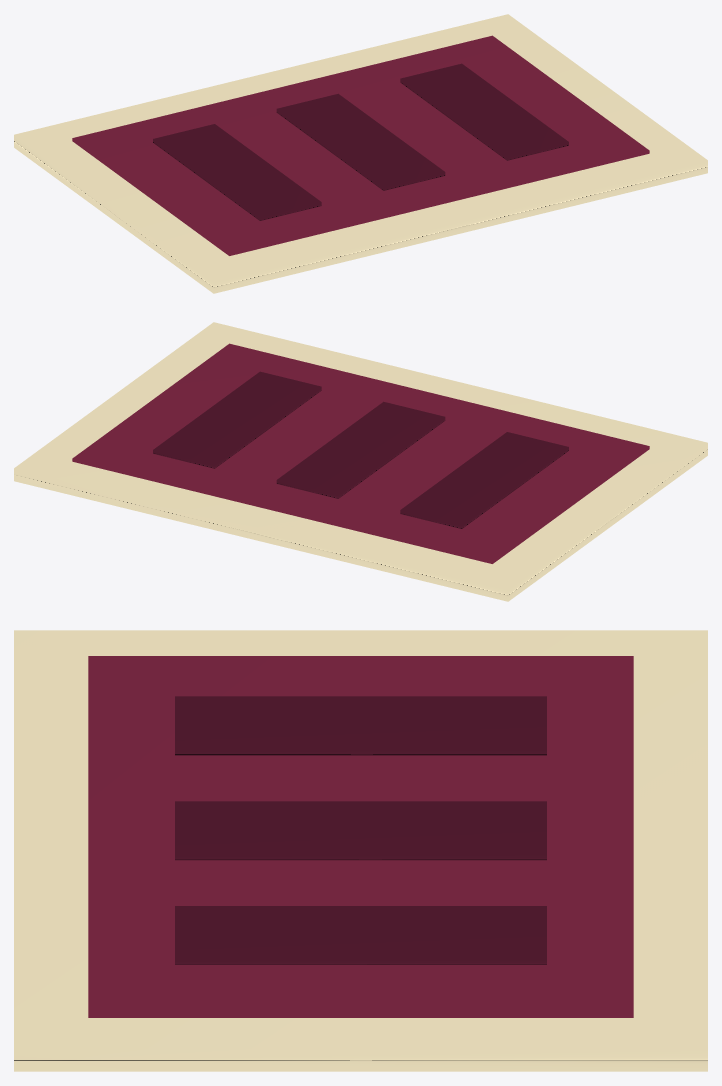
File: door_mat.glb
3 views of the same model, one above another, from view 1: azimuth 30°, elevation 25°; view 2: azimuth 150°, elevation 25°; view 3: azimuth 270°, elevation 25° (orthographic). The views are drawn at different scales.
Parts seen in each view (by area): view 1: Mat; view 2: Mat; view 3: Mat.
Part boxes in pixels (x1=…): Mat: x1=14, y1=14, x2=707, y2=293; Mat: x1=14, y1=322, x2=707, y2=601; Mat: x1=14, y1=630, x2=707, y2=1071.
Bounding box in the file's own units: 0.8 × 0.031 × 0.56.
